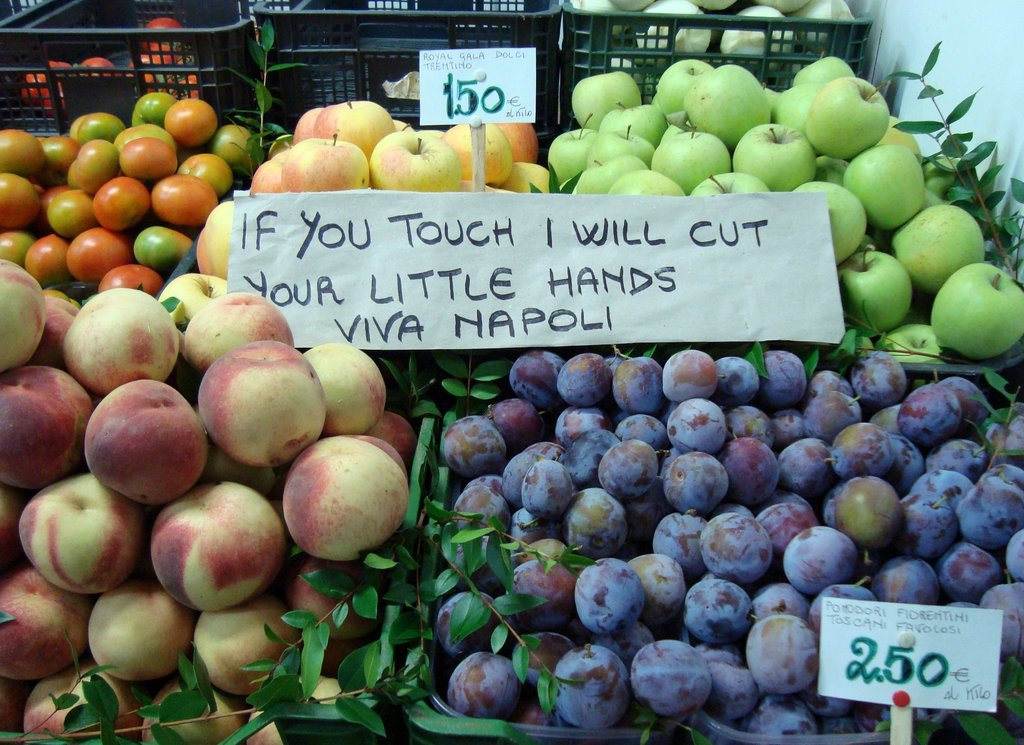Apple: (0, 255, 421, 744), (548, 54, 1023, 361), (192, 95, 549, 283), (160, 481, 288, 613)
